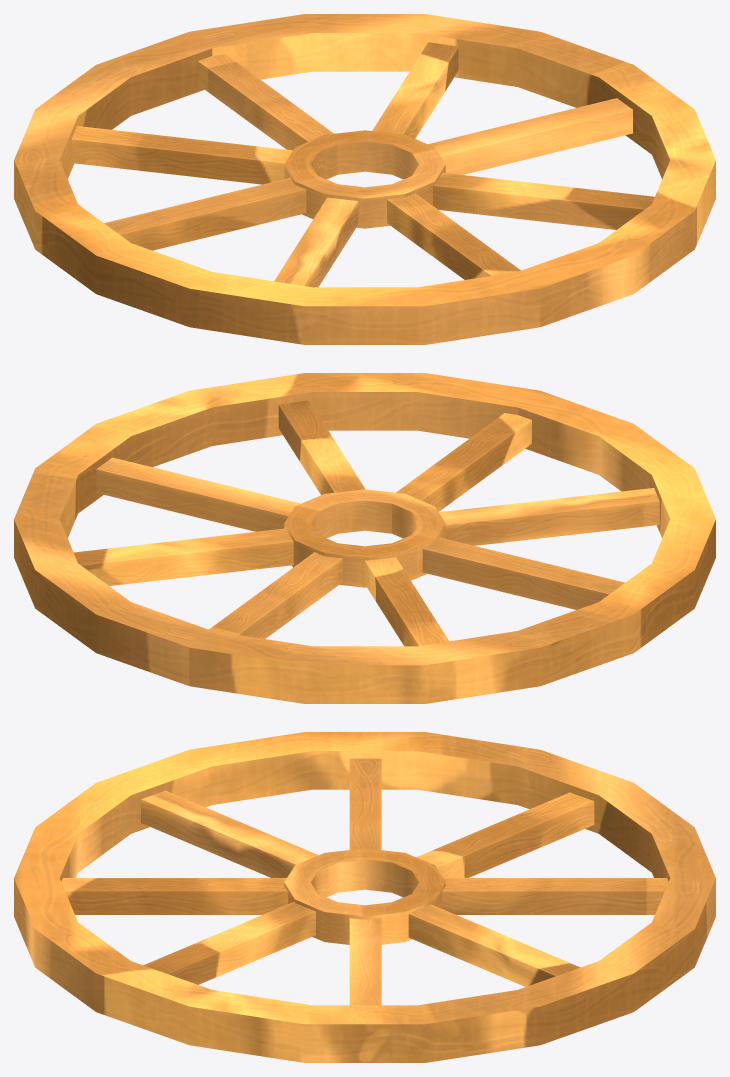
Rendered from SM_Slylized_Wheel.fbx.
The picture shows the model from 3 angles, top to bottom: view 1: azimuth 30°, elevation 25°; view 2: azimuth 150°, elevation 25°; view 3: azimuth 270°, elevation 25°; orthographic projection.
Visible parts, largest first — view 1: SM_Slylized_Wheel_LOD0; view 2: SM_Slylized_Wheel_LOD0; view 3: SM_Slylized_Wheel_LOD0.
Boxes of the visible parts, x1,y1,x2,y2 form: SM_Slylized_Wheel_LOD0: (14,14,715,344); SM_Slylized_Wheel_LOD0: (14,373,715,703); SM_Slylized_Wheel_LOD0: (14,732,715,1062).
Size of the model in its own units: 76.92 by 78.1 by 4.74.
